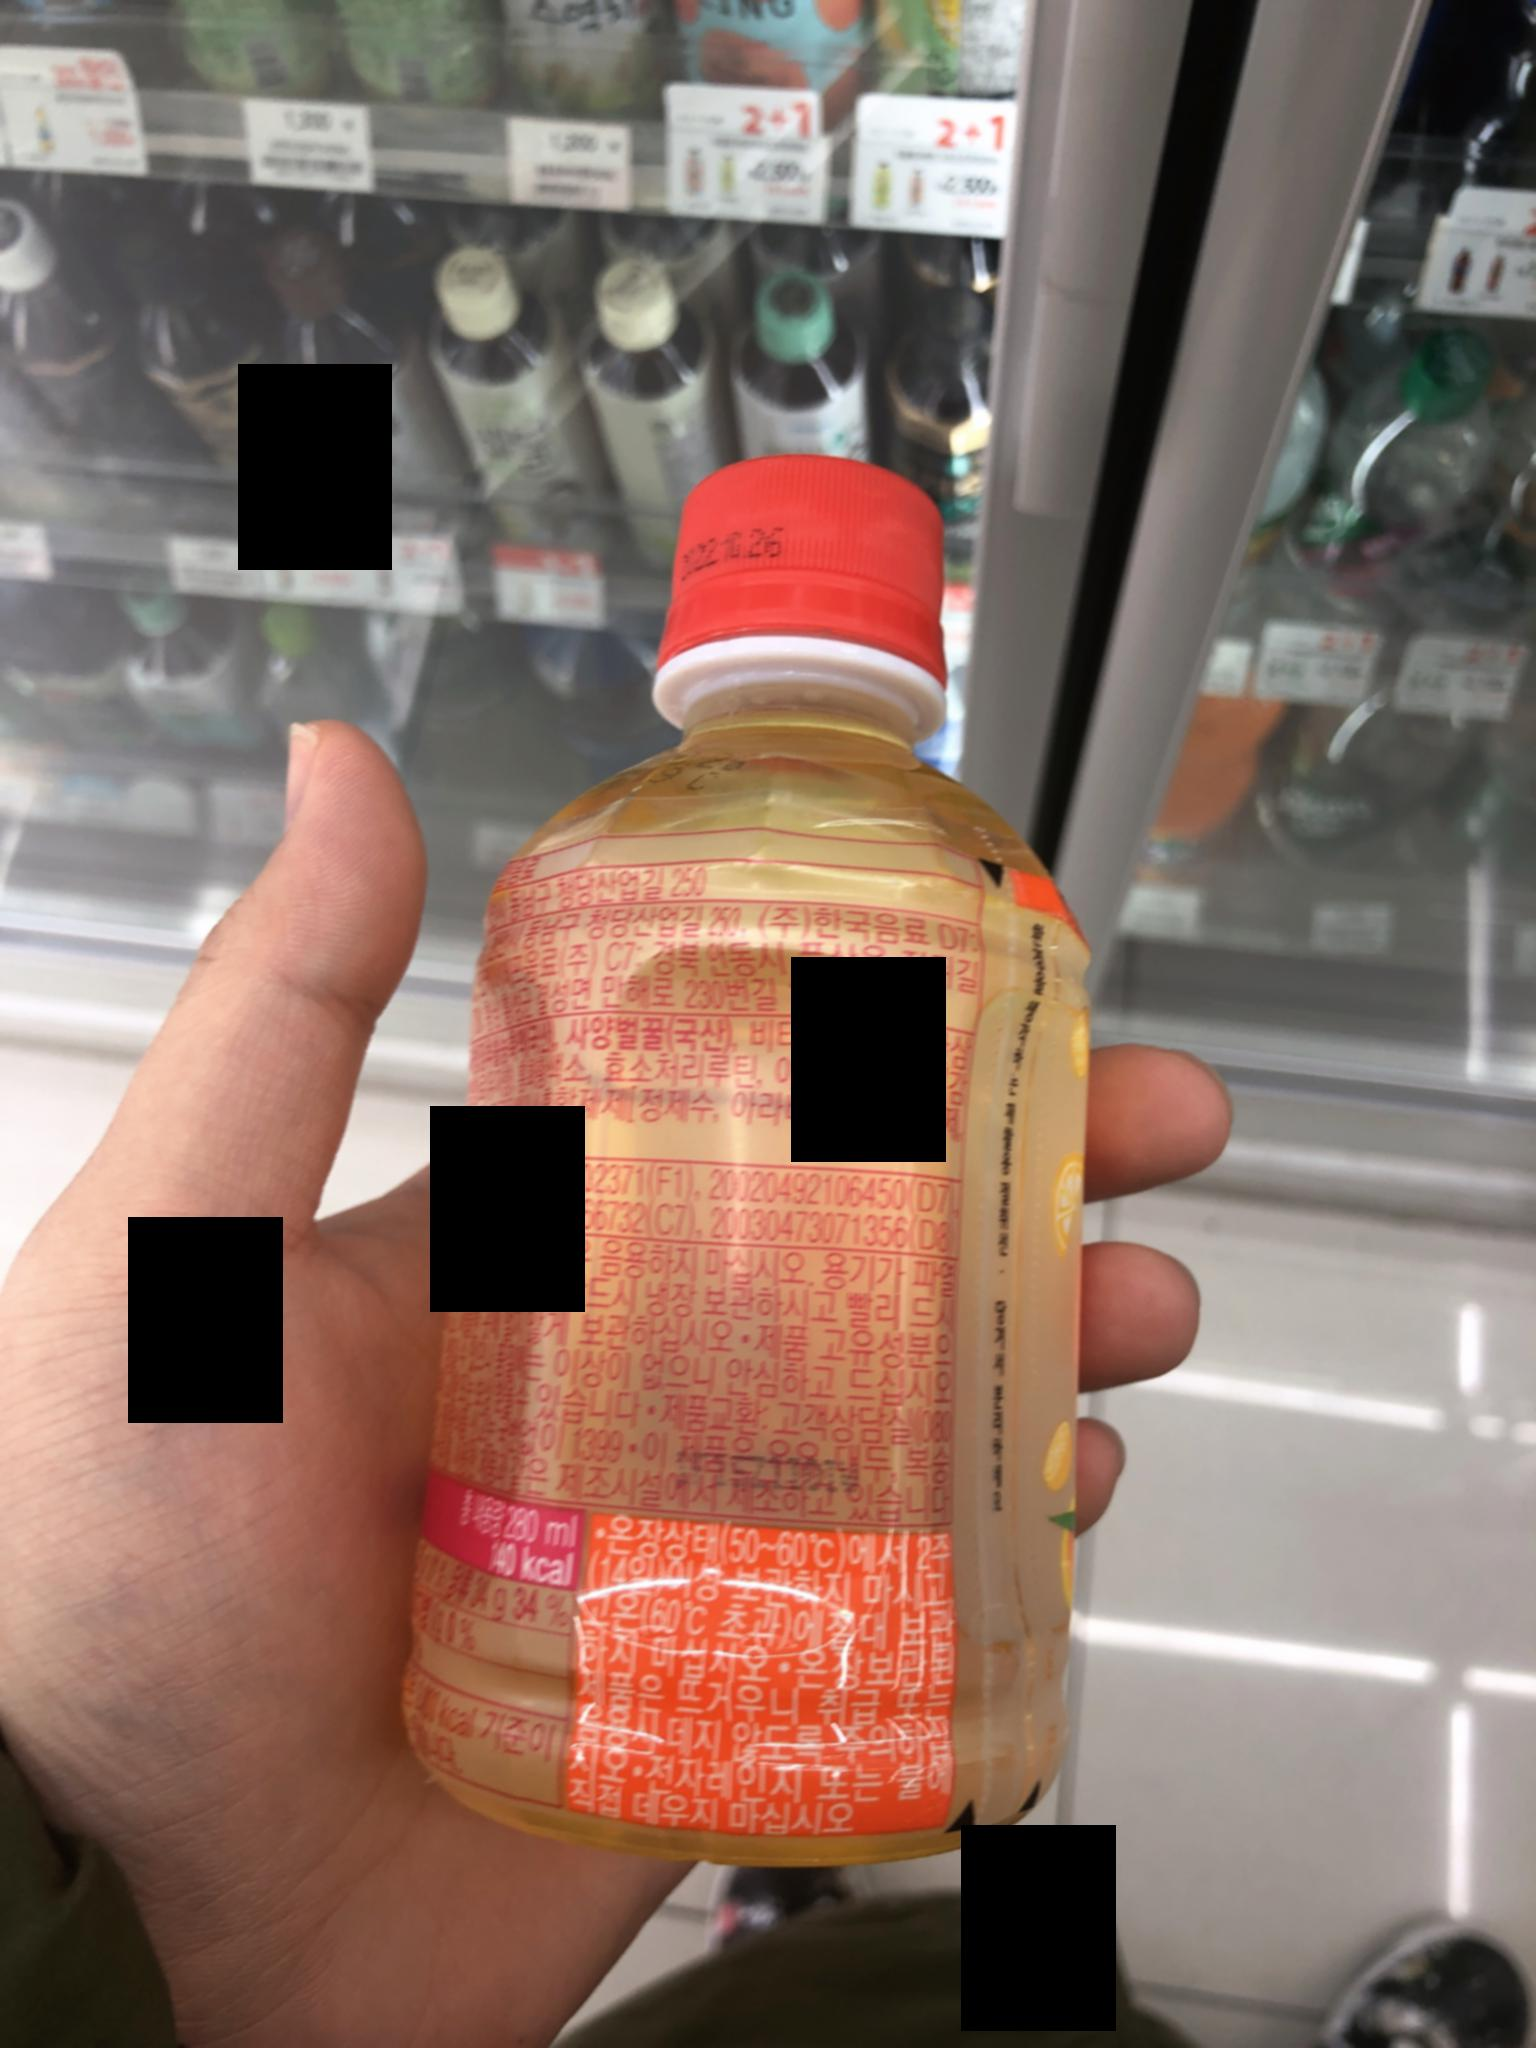honeyyuja: (355, 434, 1149, 1877)
